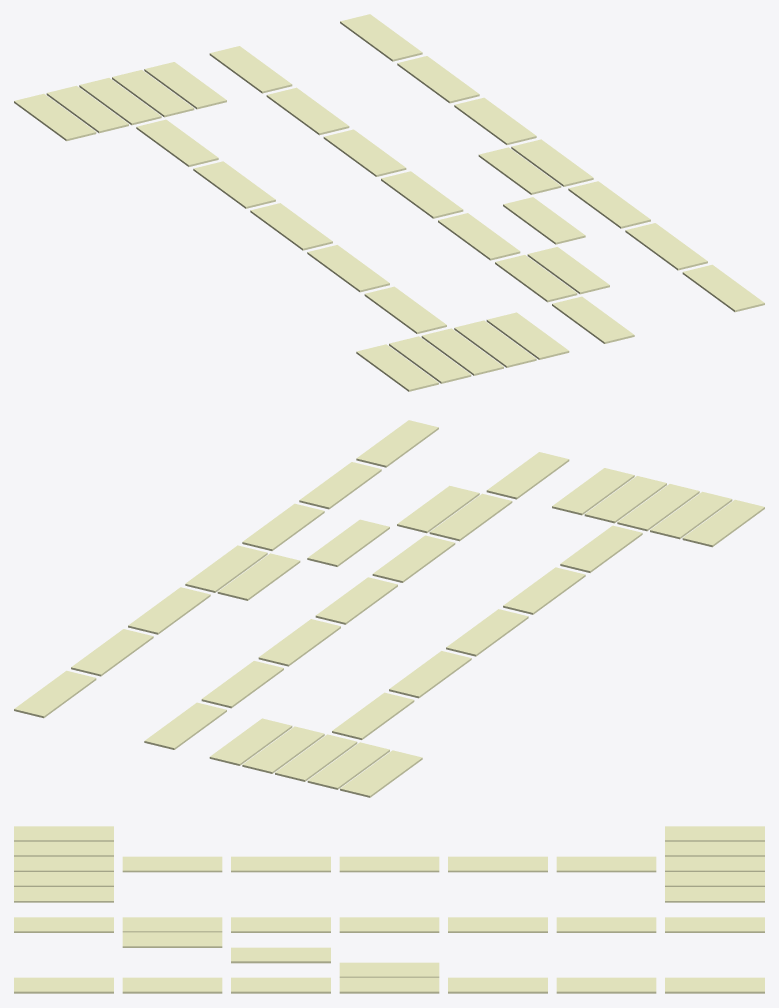
Rendered from marking_xing_text_white.glb.
3 views of the same model, one above another, from view 1: azimuth 30°, elevation 25°; view 2: azimuth 150°, elevation 25°; view 3: azimuth 270°, elevation 25° (orthographic). The views are drawn at different scales.
Visible parts, largest first — view 1: xing_22, xing_28, xing_02, xing_03, xing_17, xing_20, xing_23, xing_24, xing_25, xing_00, xing_01, xing_04 (+20 smaller); view 2: xing_17, xing_27, xing_12, xing_13, xing_23, xing_24, xing_25, xing_26, xing_28, xing_01, xing_03, xing_04 (+20 smaller); view 3: xing_19, xing_25, xing_29, xing_05, xing_07, xing_09, xing_06, xing_08, xing_16, xing_21, xing_22, xing_27 (+20 smaller).
Boxes of the visible parts, <box> form: xing_22: <box>568,181,650,228</box>; xing_28: <box>266,87,349,135</box>; xing_02: <box>421,328,503,375</box>; xing_03: <box>454,320,536,367</box>; xing_17: <box>495,255,577,302</box>; xing_20: <box>438,213,520,260</box>; xing_23: <box>381,171,463,218</box>; xing_24: <box>478,147,561,194</box>; xing_25: <box>511,139,593,186</box>; xing_00: <box>356,344,438,391</box>; xing_01: <box>389,336,471,383</box>; xing_04: <box>486,312,569,359</box>; xing_17: <box>429,493,512,541</box>; xing_27: <box>128,587,210,634</box>; xing_12: <box>275,734,357,781</box>; xing_13: <box>242,726,324,773</box>; xing_23: <box>315,577,397,624</box>; xing_24: <box>217,553,300,600</box>; xing_25: <box>185,545,267,592</box>; xing_26: <box>258,619,340,666</box>; xing_28: <box>201,661,283,708</box>; xing_01: <box>650,491,732,539</box>; xing_03: <box>584,476,666,523</box>; xing_04: <box>552,468,634,515</box>; xing_19: <box>122,977,222,993</box>; xing_25: <box>339,977,439,993</box>; xing_29: <box>556,977,656,993</box>; xing_05: <box>122,856,222,872</box>; xing_07: <box>339,856,439,872</box>; xing_09: <box>556,856,656,872</box>; xing_06: <box>231,856,330,872</box>; xing_08: <box>448,856,547,872</box>; xing_16: <box>14,977,113,993</box>; xing_21: <box>231,947,330,963</box>; xing_22: <box>231,977,330,993</box>; xing_27: <box>448,977,547,993</box>.
Size of the model in its own units: 0.9576 by 0.005 by 1.84.
